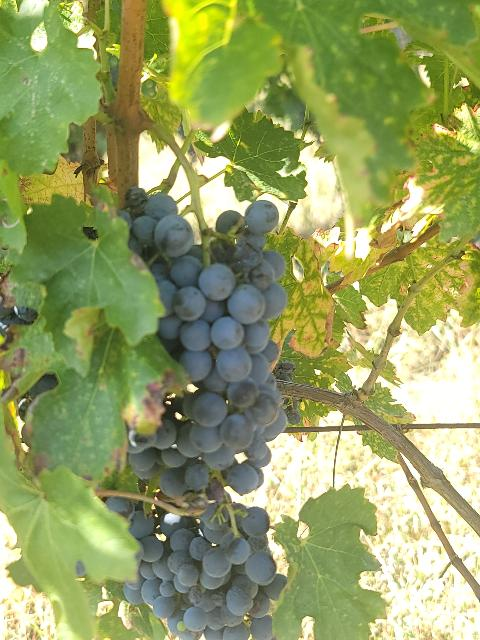grapes: (125, 188, 288, 494), (106, 496, 212, 640), (182, 501, 288, 640)
